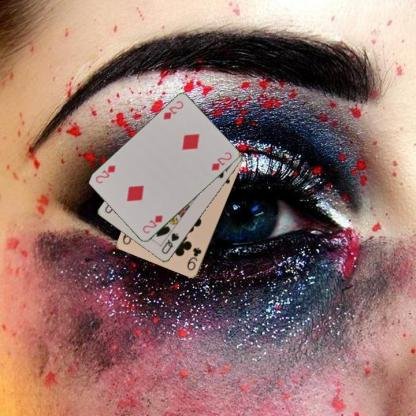2d: (161, 98, 185, 122), (140, 212, 164, 235)
9c: (184, 245, 203, 272)
Qs: (159, 231, 180, 256)
